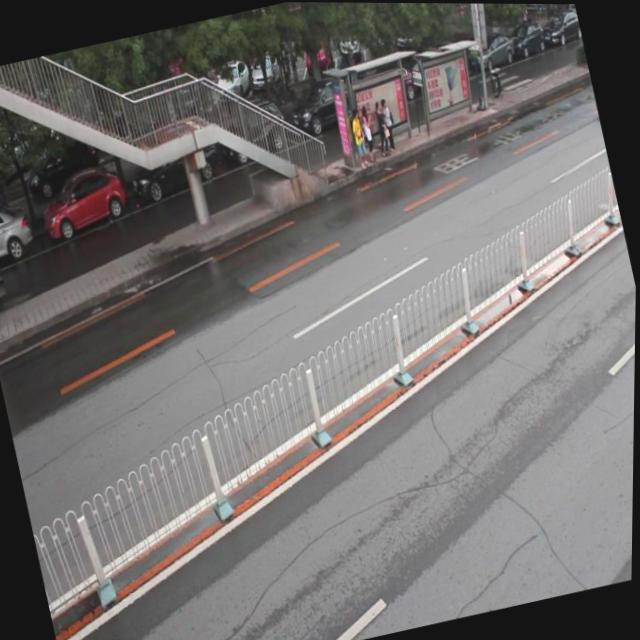car: (122, 117, 226, 203), (37, 163, 133, 242), (284, 67, 367, 142), (215, 92, 293, 168), (0, 199, 39, 272)
